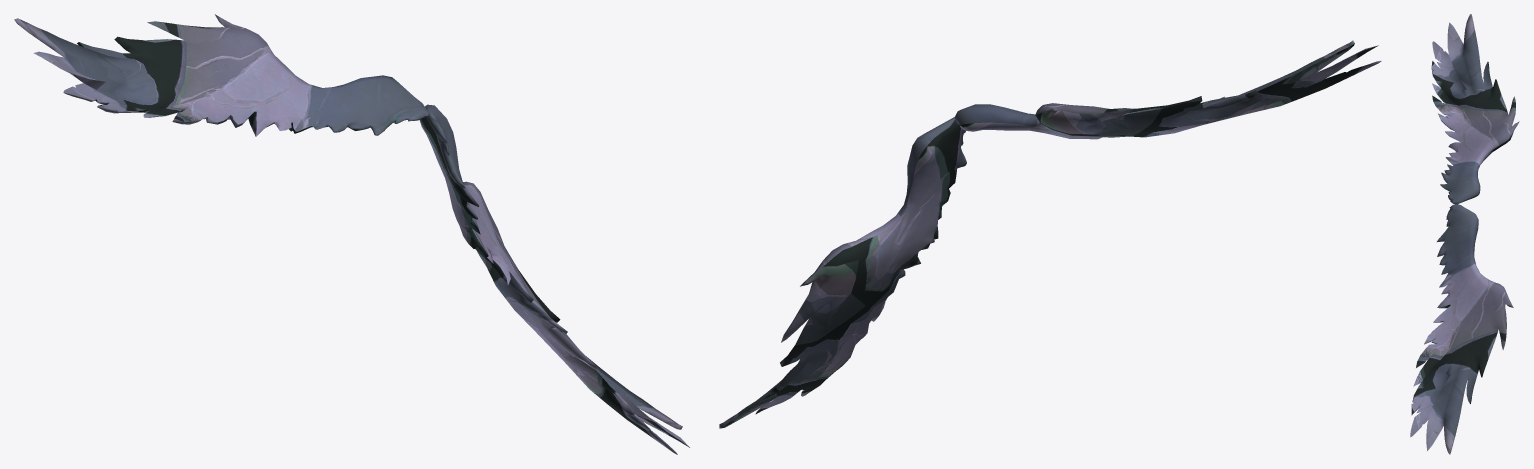
File: Wing2.FBX
The picture shows the model from 3 angles, left to right: view 1: azimuth 30°, elevation 25°; view 2: azimuth 150°, elevation 25°; view 3: azimuth 270°, elevation 25°; orthographic projection. The views are drawn at different scales.
Parts seen in each view (by area): view 1: Mesh_0042; view 2: Mesh_0042; view 3: Mesh_0042.
Boxes of the visible parts, left/top/right/bottom form: Mesh_0042: left=14, top=14, right=689, bottom=454; Mesh_0042: left=719, top=40, right=1381, bottom=428; Mesh_0042: left=1410, top=14, right=1519, bottom=454.
Bounding box in the file's own units: 529 × 431 × 152.
